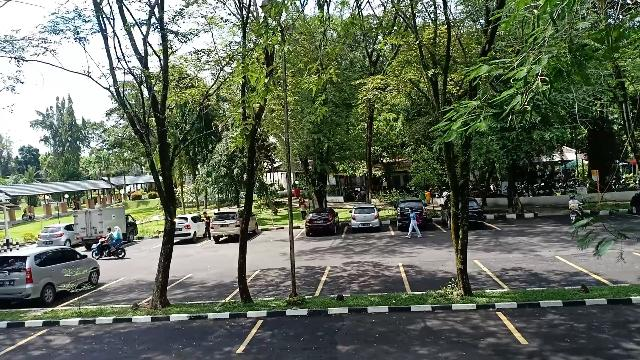empty: (5, 316, 265, 360), (243, 310, 523, 350), (490, 253, 582, 288), (321, 262, 405, 300), (402, 261, 500, 293), (248, 264, 328, 300), (90, 274, 158, 308), (169, 273, 239, 306), (256, 223, 298, 243)
occupied: (0, 250, 101, 308), (299, 214, 345, 242), (344, 212, 392, 236)
